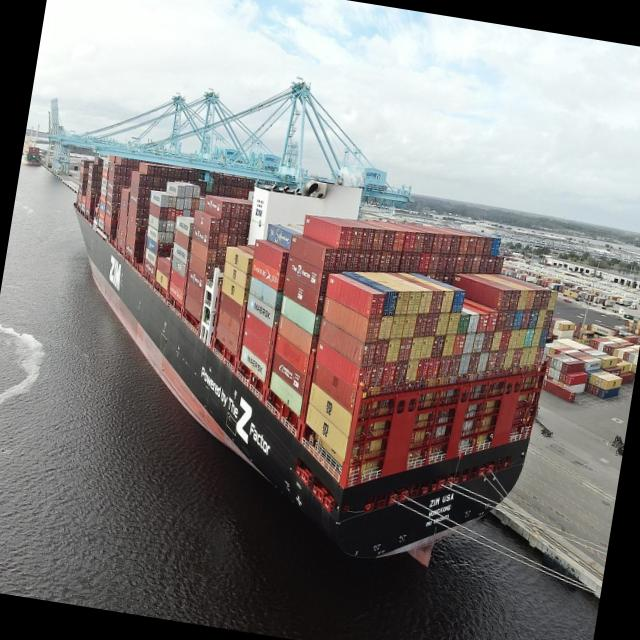boat: (8, 80, 620, 596)
